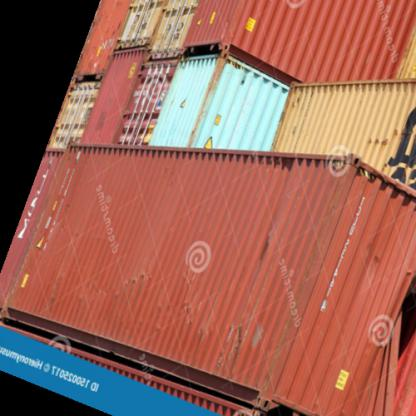Damage: (382, 262, 415, 373), (214, 313, 254, 370)
